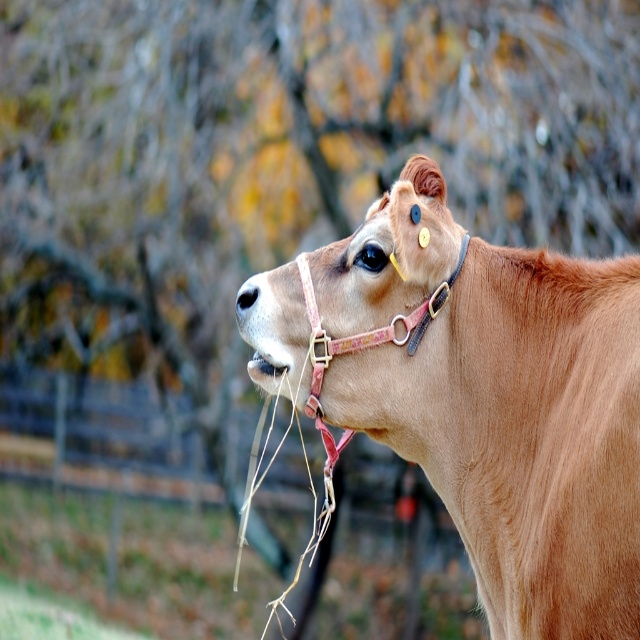Cattle: (234, 154, 640, 639)
